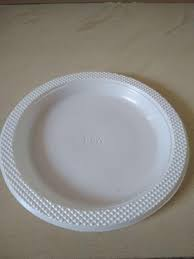piring: (0, 72, 191, 232)
